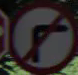Don't turn right: (15, 5, 71, 61)
